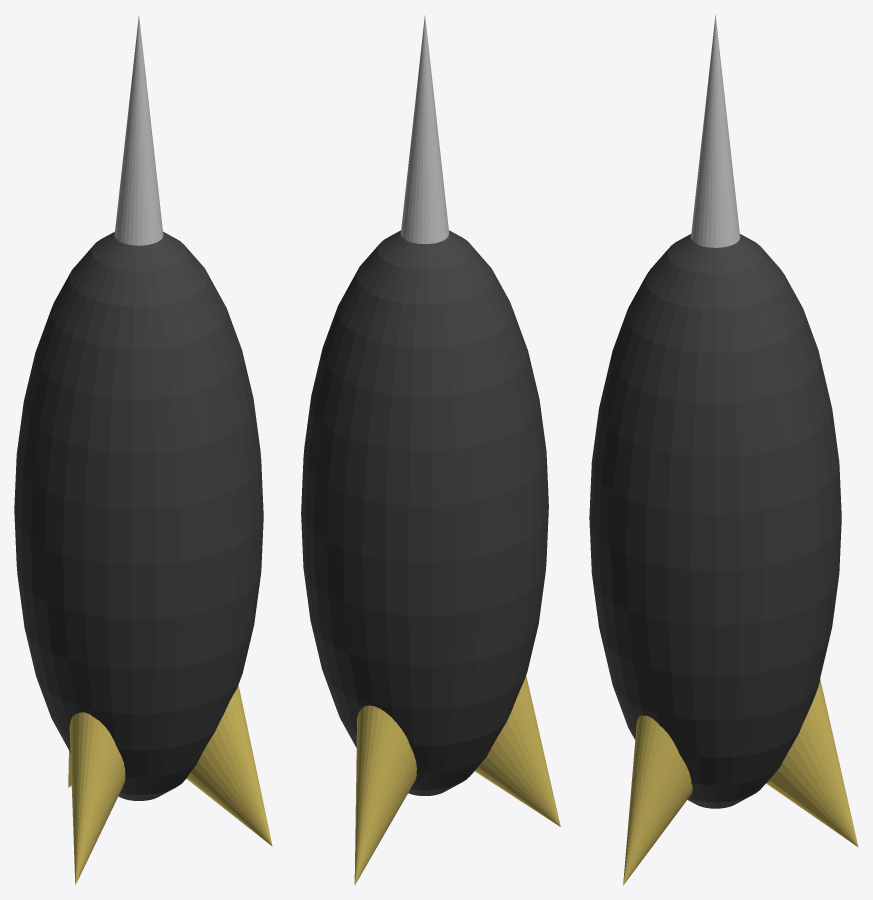
The model's file is dart.fbx.
The picture shows the model from 3 angles, left to right: view 1: azimuth 30°, elevation 25°; view 2: azimuth 150°, elevation 25°; view 3: azimuth 270°, elevation 25°; orthographic projection.
Visible parts, largest first — view 1: Sphere, Cone, Cone.003, Cone.002; view 2: Sphere, Cone.001, Cone, Cone.003; view 3: Sphere, Cone.002, Cone.001, Cone.
Part boxes in pixels (left/top/right/bottom): Sphere: left=14, top=231, right=263, bottom=800; Cone: left=114, top=15, right=163, bottom=245; Cone.003: left=69, top=712, right=125, bottom=885; Cone.002: left=186, top=685, right=272, bottom=846; Sphere: left=301, top=230, right=548, bottom=795; Cone.001: left=354, top=705, right=416, bottom=885; Cone: left=400, top=15, right=449, bottom=244; Cone.003: left=475, top=675, right=560, bottom=826; Sphere: left=589, top=234, right=841, bottom=808; Cone.002: left=623, top=715, right=692, bottom=885; Cone.001: left=766, top=678, right=858, bottom=847; Cone: left=691, top=15, right=740, bottom=247.
Bounding box in the file's own units: 40 × 146 × 42.66.
